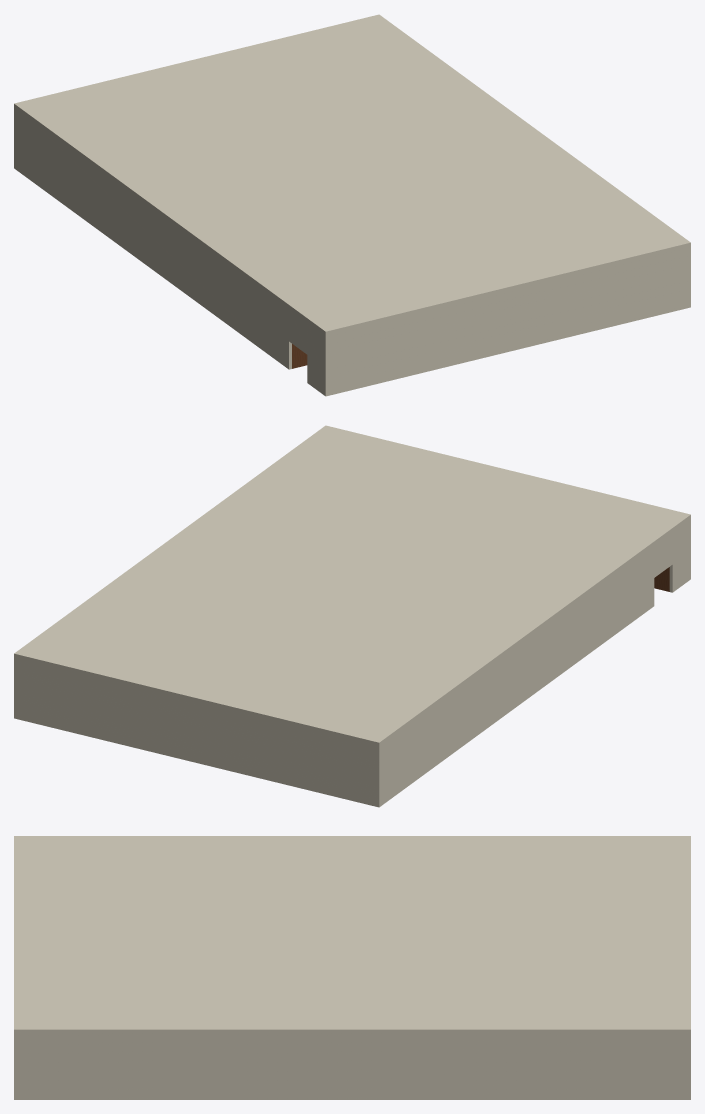
File: WP02_sports_care_runtime_names_inert001.glb
The picture shows the model from 3 angles, top to bottom: view 1: azimuth 30°, elevation 25°; view 2: azimuth 150°, elevation 25°; view 3: azimuth 270°, elevation 25°; orthographic projection. The views are drawn at different scales.
Parts seen in each view (by area): view 1: WP02N_0798, WP02N_0000, WP02N_1896, WP02N_1895, WP02N_0520, WP02N_0523, WP02N_1894; view 2: WP02N_0798, WP02N_0523, WP02N_1896, WP02N_1895, WP02N_0520, WP02N_0000, WP02N_1894; view 3: WP02N_0798, WP02N_0520, WP02N_1896, WP02N_0523, WP02N_0000.
Boxes of the visible parts, x1=… form: WP02N_0798: x1=14, y1=15, x2=689, y2=332; WP02N_0000: x1=328, y1=242, x2=687, y2=395; WP02N_1896: x1=14, y1=103, x2=291, y2=369; WP02N_1895: x1=307, y1=318, x2=328, y2=396; WP02N_0520: x1=376, y1=14, x2=690, y2=307; WP02N_0523: x1=17, y1=15, x2=377, y2=103; WP02N_1894: x1=289, y1=304, x2=310, y2=354; WP02N_0798: x1=14, y1=426, x2=690, y2=743; WP02N_0523: x1=17, y1=654, x2=377, y2=806; WP02N_1896: x1=376, y1=540, x2=654, y2=807; WP02N_1895: x1=669, y1=514, x2=690, y2=592; WP02N_0520: x1=14, y1=425, x2=328, y2=718; WP02N_0000: x1=327, y1=426, x2=687, y2=514; WP02N_1894: x1=652, y1=527, x2=672, y2=577; WP02N_0798: x1=14, y1=836, x2=690, y2=1031; WP02N_0520: x1=14, y1=1028, x2=690, y2=1099; WP02N_1896: x1=93, y1=836, x2=690, y2=837; WP02N_0523: x1=687, y1=837, x2=690, y2=1027; WP02N_0000: x1=14, y1=837, x2=17, y2=1027.
Bounding box in the file's own units: 46 × 7.8 × 68.
44 materials, 36 textured.
